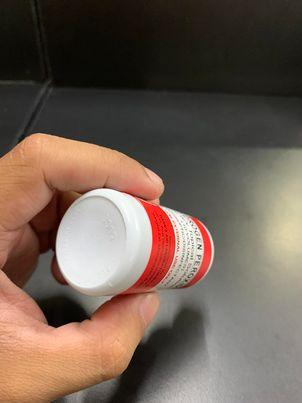-Bottle-: (56, 188, 214, 296)
